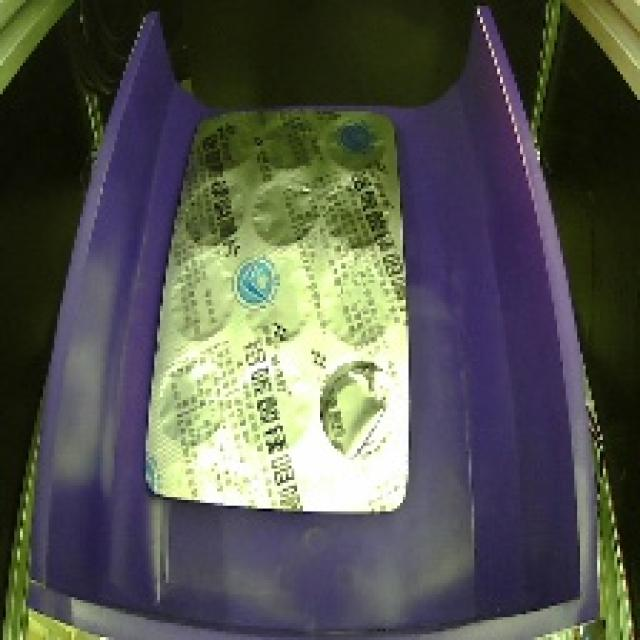med_plate: (130, 85, 424, 528)
